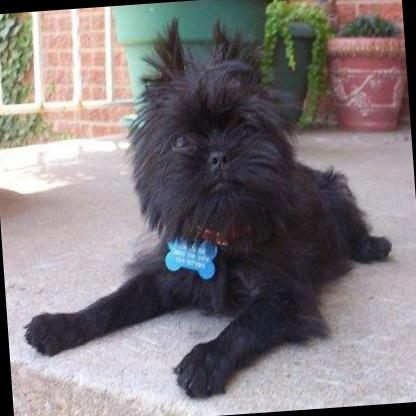affenpinscher: (2, 2, 402, 411)
